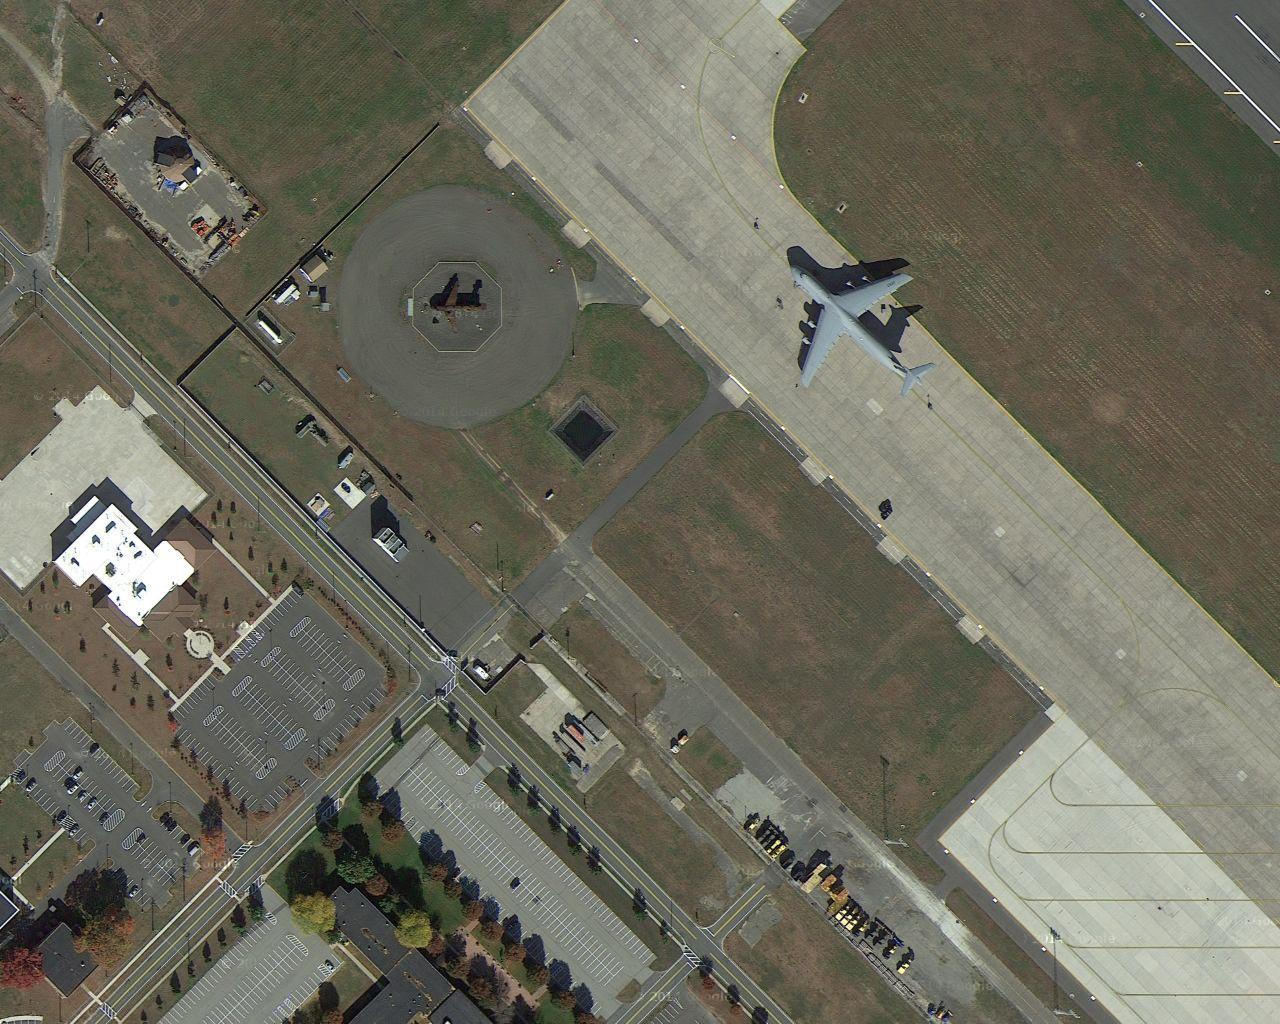KC-135: (779, 245, 941, 403)
